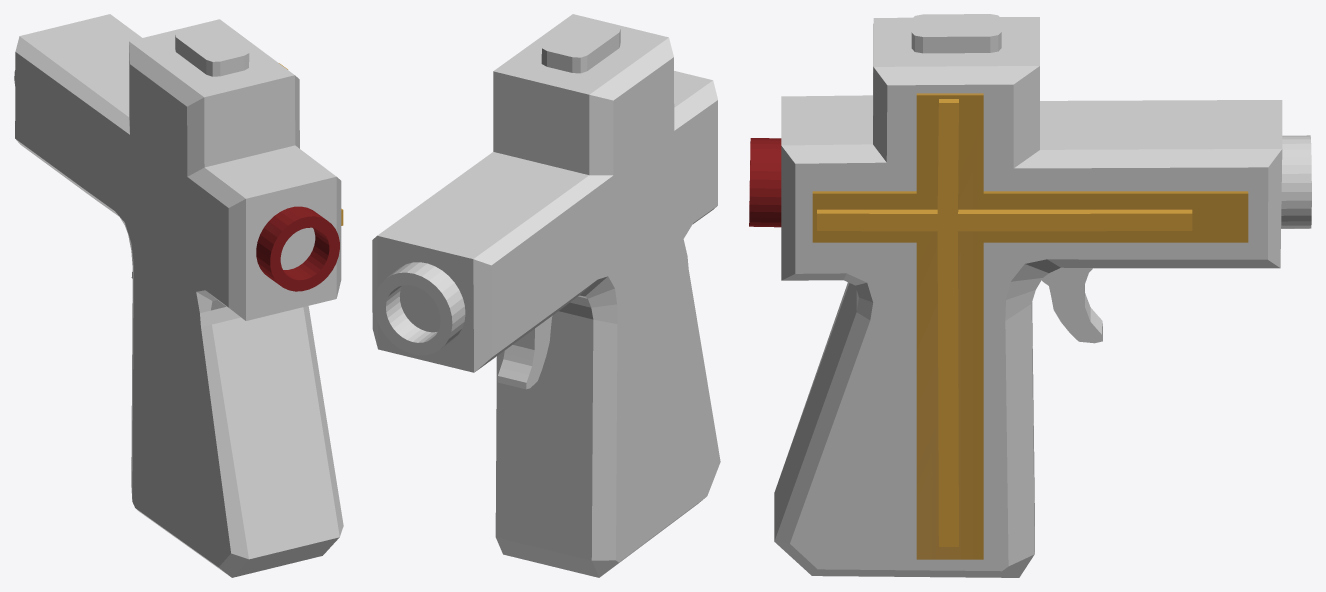
Rendered from ArmaReligiosa.fbx.
3 views of the same model, side by side, from view 1: azimuth 30°, elevation 25°; view 2: azimuth 150°, elevation 25°; view 3: azimuth 270°, elevation 25° (orthographic). The views are drawn at different scales.
Visible parts, largest first — view 1: Plane, Plane.004, Plane.003; view 2: Plane, Plane.002, Plane.003, Plane.001; view 3: Plane, Plane.005, Plane.006, Plane.003, Plane.004, Plane.002, Plane.001.
Part boxes in pixels (box(x1,y1,x2,y2)): Plane: box(15, 14, 343, 577); Plane.004: box(256, 206, 339, 291); Plane.003: box(175, 25, 249, 76); Plane: box(372, 14, 720, 577); Plane.002: box(374, 262, 465, 355); Plane.003: box(541, 19, 620, 73); Plane.001: box(497, 315, 552, 389); Plane: box(774, 17, 1282, 577); Plane.005: box(812, 93, 1248, 559); Plane.006: box(817, 99, 1192, 546); Plane.003: box(911, 14, 1001, 53); Plane.004: box(749, 138, 781, 227); Plane.002: box(1281, 135, 1311, 228); Plane.001: box(1042, 267, 1102, 343).
Bounding box in the file's own units: 104 × 382 × 368.
